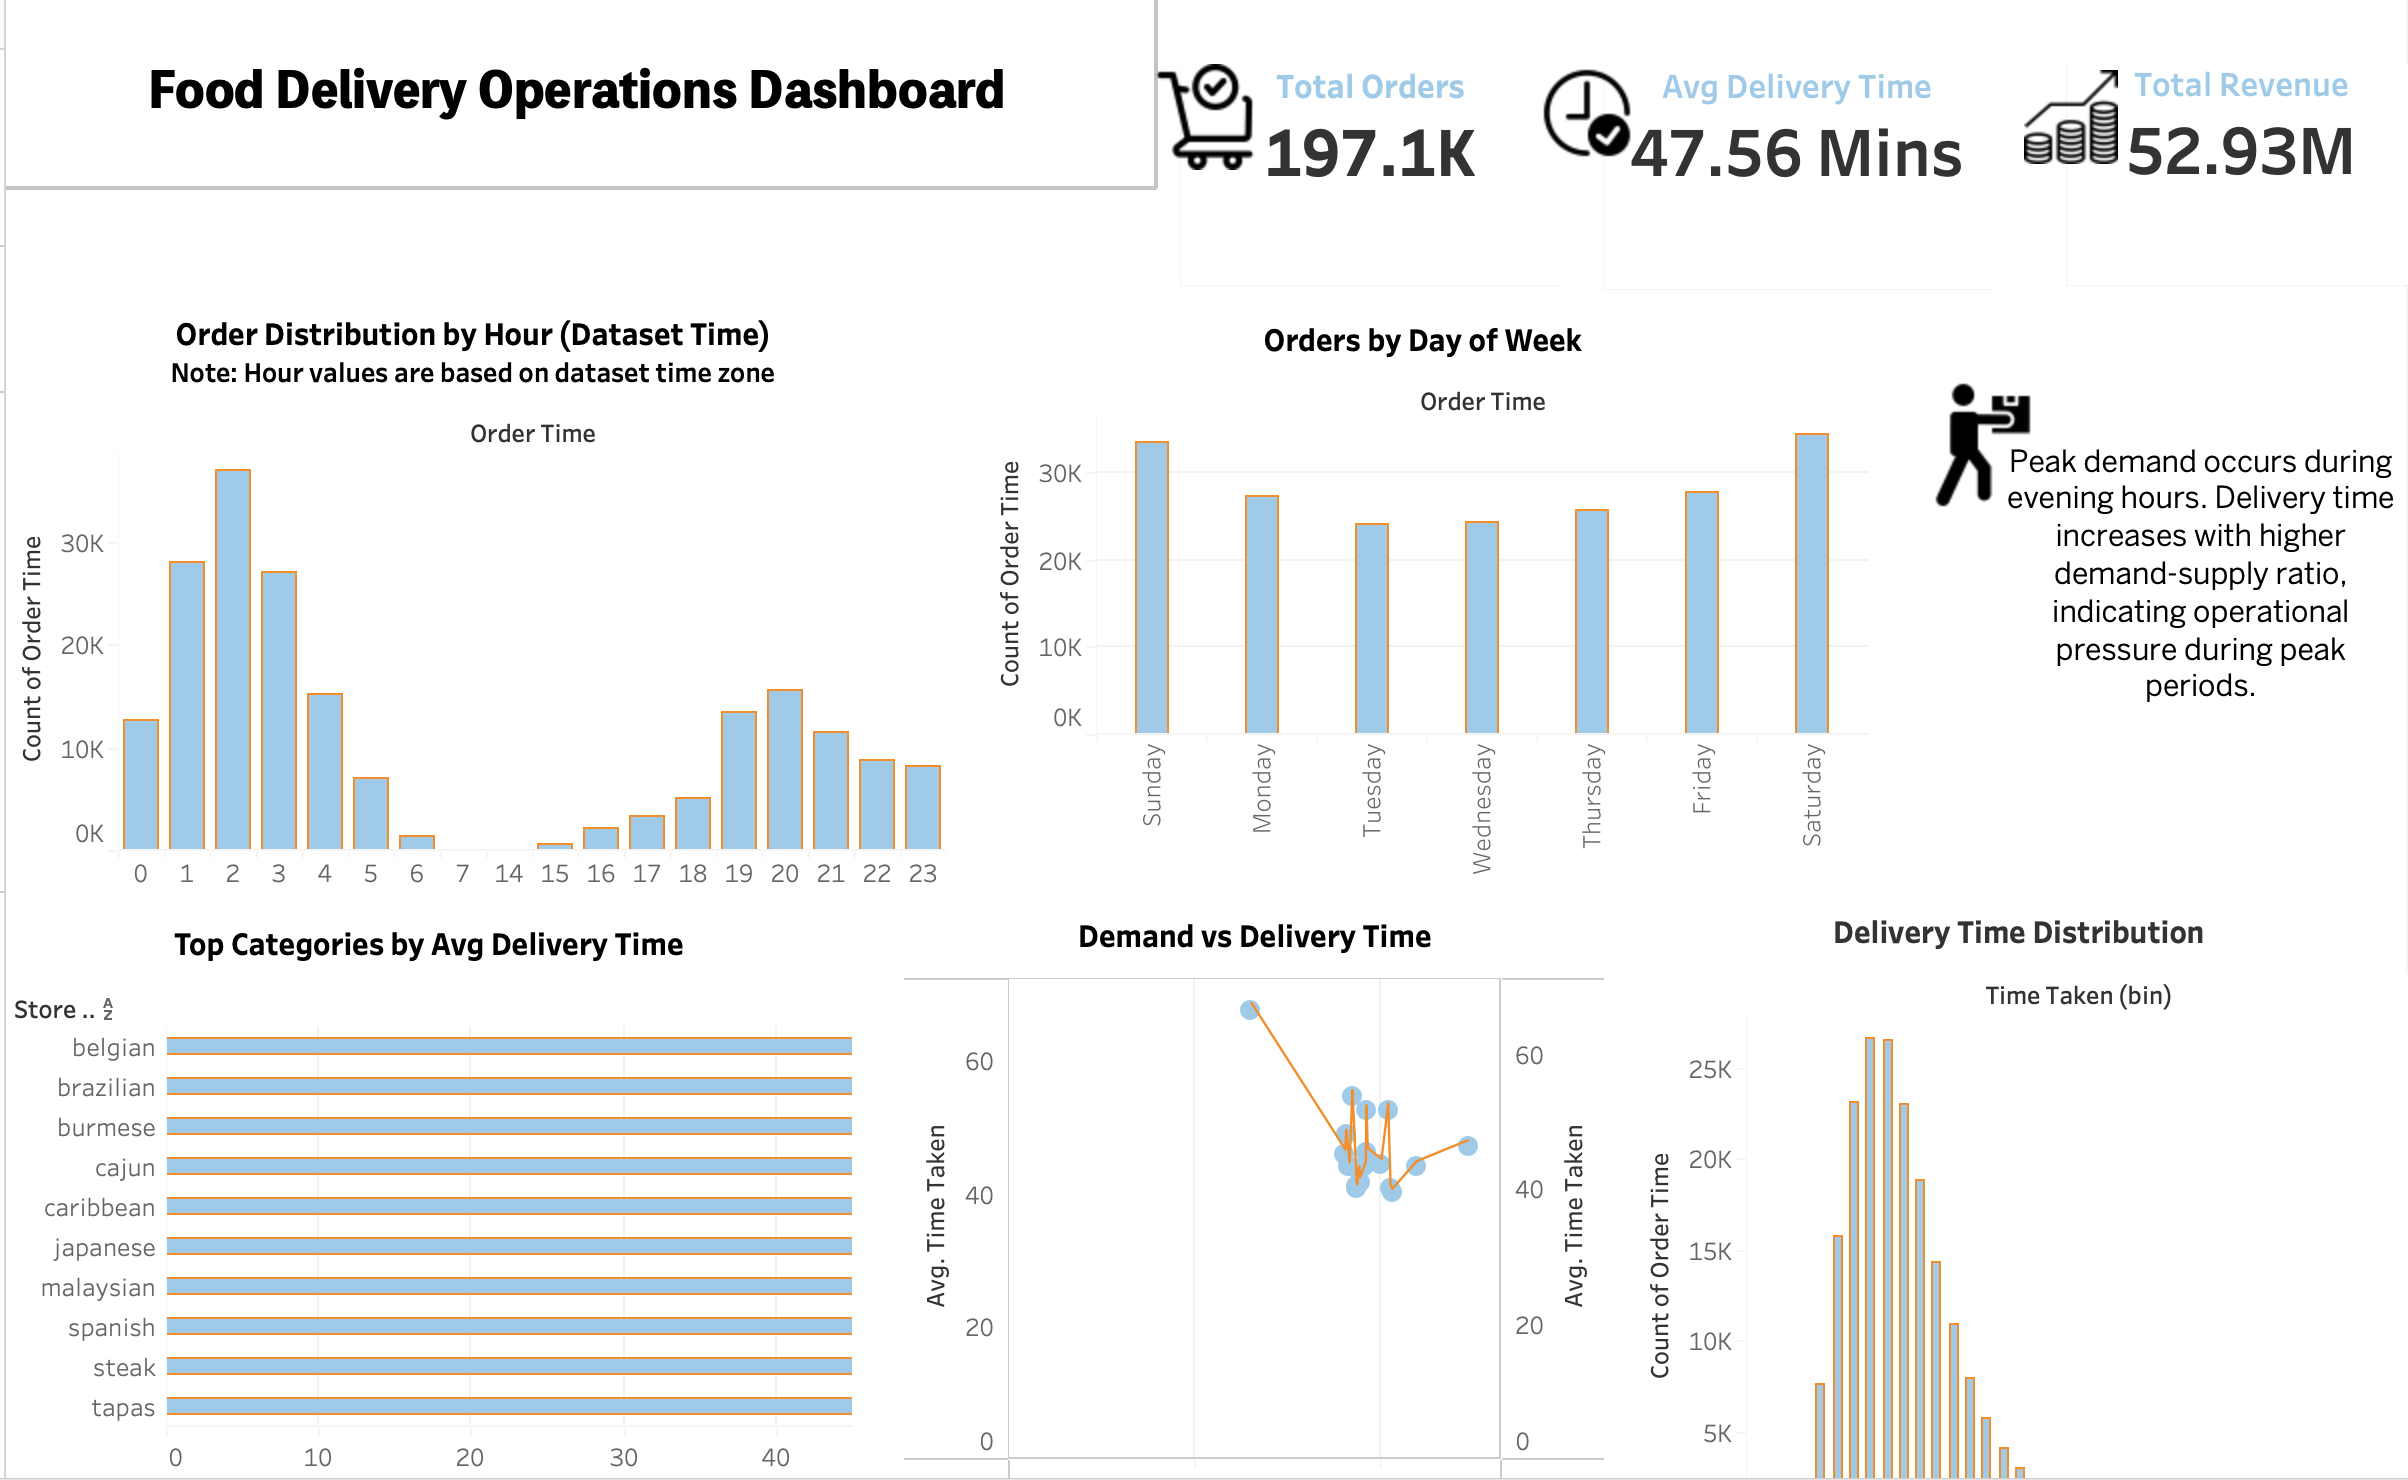

This screenshot's page, from the dashboard's own definition file:
{"tool":"tableau","page":{"name":"Dashboard 1","canvas":[1200,800],"ordinal":0},"visuals":[{"type":"worksheet","title":"KPI - Total Revenue","mark":"Text","rows":["Calculation_1261479254872068"],"box":[1030,21,176,126]},{"type":"worksheet","title":"KPI – AVG DELIVERY TIME","mark":"Text","rows":["time_taken"],"box":[799,22,194,127]},{"type":"worksheet","title":"KPI - Total Orders","mark":"Text","rows":["order_time"],"box":[587,23,191,124]},{"type":"image","param":"/Users/arpitakhanagwal/Downloads/checkout.png","box":[573,36,60,53]},{"type":"image","param":"/Users/arpitakhanagwal/Downloads/on-time.png","box":[766,36,52,49]},{"type":"image","param":"/Users/arpitakhanagwal/Downloads/business-and-finance.png","box":[1009,39,48,47]},{"type":"text","box":[996,143,203,296]},{"type":"worksheet","title":"Orders by Day","mark":"Bar","rows":["order_time"],"cols":["order_time"],"box":[486,159,445,292]},{"type":"image","param":"/Users/arpitakhanagwal/Downloads/porter.png","box":[956,194,65,90]},{"type":"worksheet","title":"Delivery Time Distribution","mark":"Bar","rows":["order_time"],"cols":["Time Taken (bin)"],"box":[811,455,391,336]},{"type":"worksheet","title":"Demand vs Delivery Time","mark":"Circle","rows":["time_taken","time_taken"],"cols":["Calculation_1261479568785415"],"box":[449,457,351,332]},{"type":"worksheet","title":"CATEGORY PERFORMANCE","mark":"Bar","rows":["store_primary_category"],"cols":["time_taken"],"box":[0,461,423,333]}]}

Visuals, with their boxes on the page's 1200x800 design canvas (x1, y1, x2, y2). These are canvas units, not pixel positions in the 2408x1480 screenshot, which may show the page scaled, cropped or inside an application window:
"KPI - Total Revenue" worksheet (Text marks): bbox=(1030, 21, 1206, 147)
"KPI – AVG DELIVERY TIME" worksheet (Text marks): bbox=(799, 22, 993, 149)
"KPI - Total Orders" worksheet (Text marks): bbox=(587, 23, 778, 147)
image: bbox=(573, 36, 633, 89)
image: bbox=(766, 36, 818, 85)
image: bbox=(1009, 39, 1057, 86)
text: bbox=(996, 143, 1199, 439)
"Orders by Day" worksheet (Bar marks): bbox=(486, 159, 931, 451)
image: bbox=(956, 194, 1021, 284)
"Delivery Time Distribution" worksheet (Bar marks): bbox=(811, 455, 1202, 791)
"Demand vs Delivery Time" worksheet (Circle marks): bbox=(449, 457, 800, 789)
"CATEGORY PERFORMANCE" worksheet (Bar marks): bbox=(0, 461, 423, 794)
